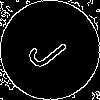J: (25, 25, 77, 73)
